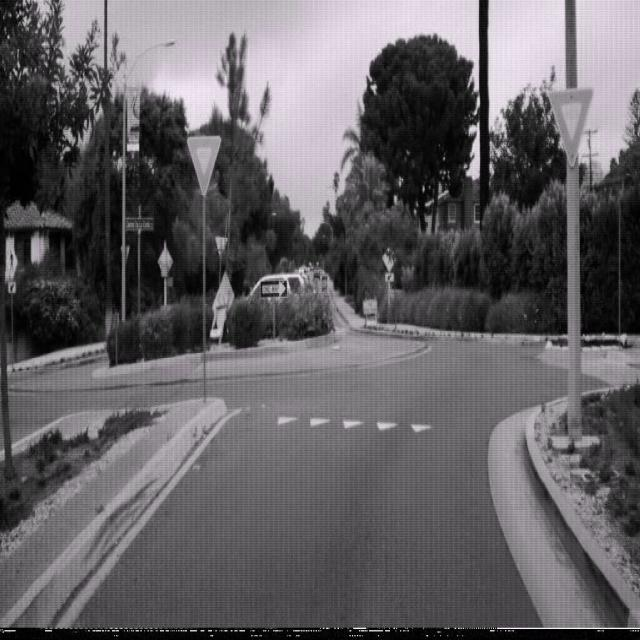yield: (548, 85, 594, 168), (186, 135, 222, 196)
